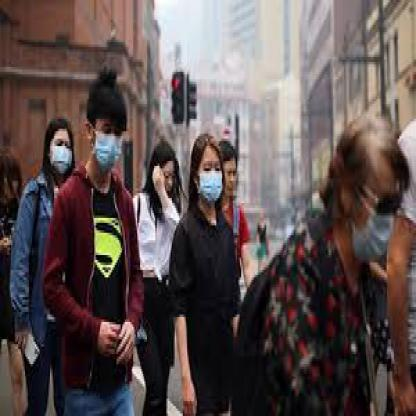Not_Wearing_Mask: (162, 146, 183, 196), (225, 151, 237, 201)
Wearing_Mask: (355, 146, 395, 265), (88, 99, 128, 186), (196, 146, 226, 211), (46, 124, 76, 183)
